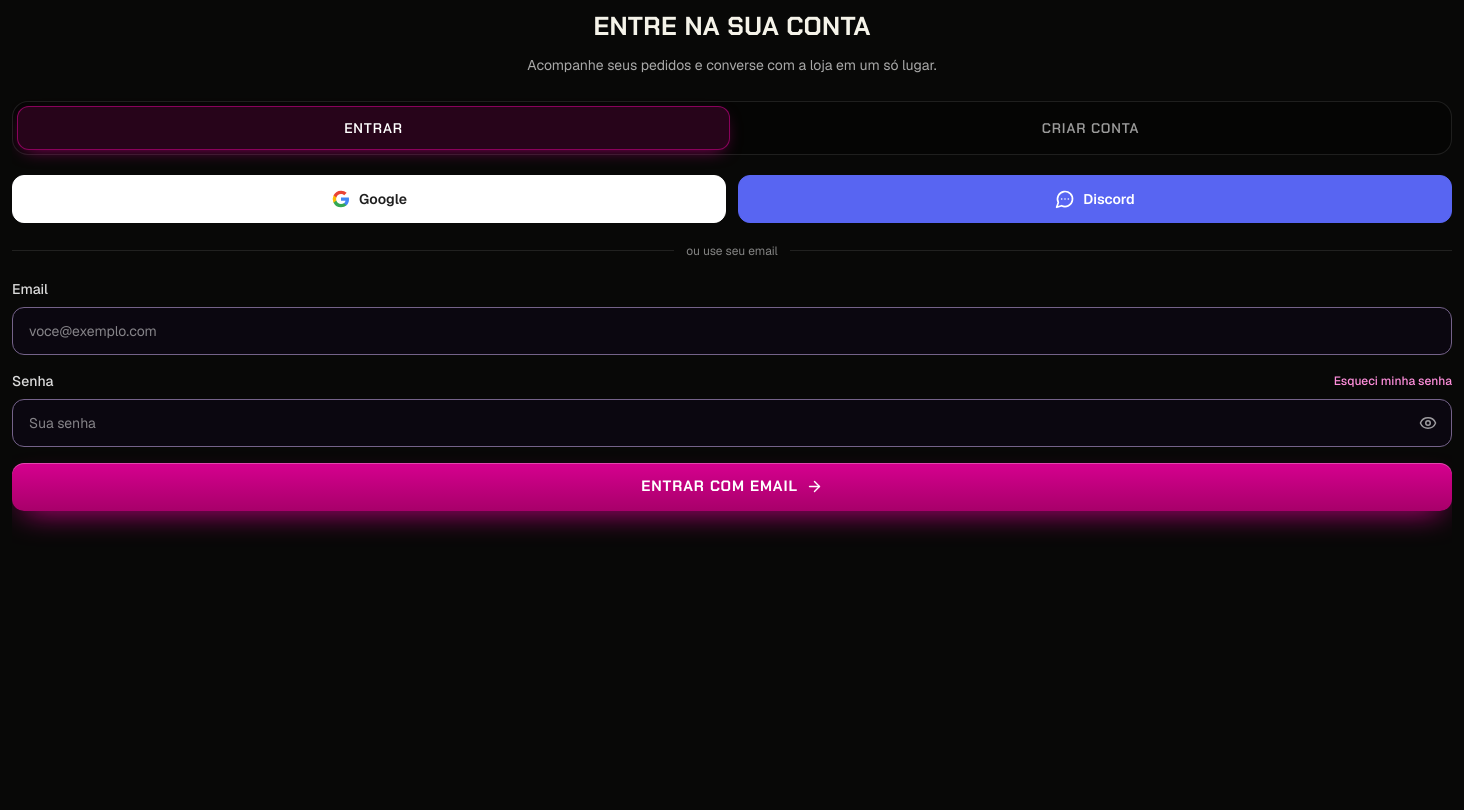
Test case: acesso do cliente por Google, Discord e email › mostra erros associados ao campo, preserva os valores e limpa feedback ao trocar de modo
In the field labelled "Email": (732, 331) 12,307 -> 1452,355, type "ana@example.com"
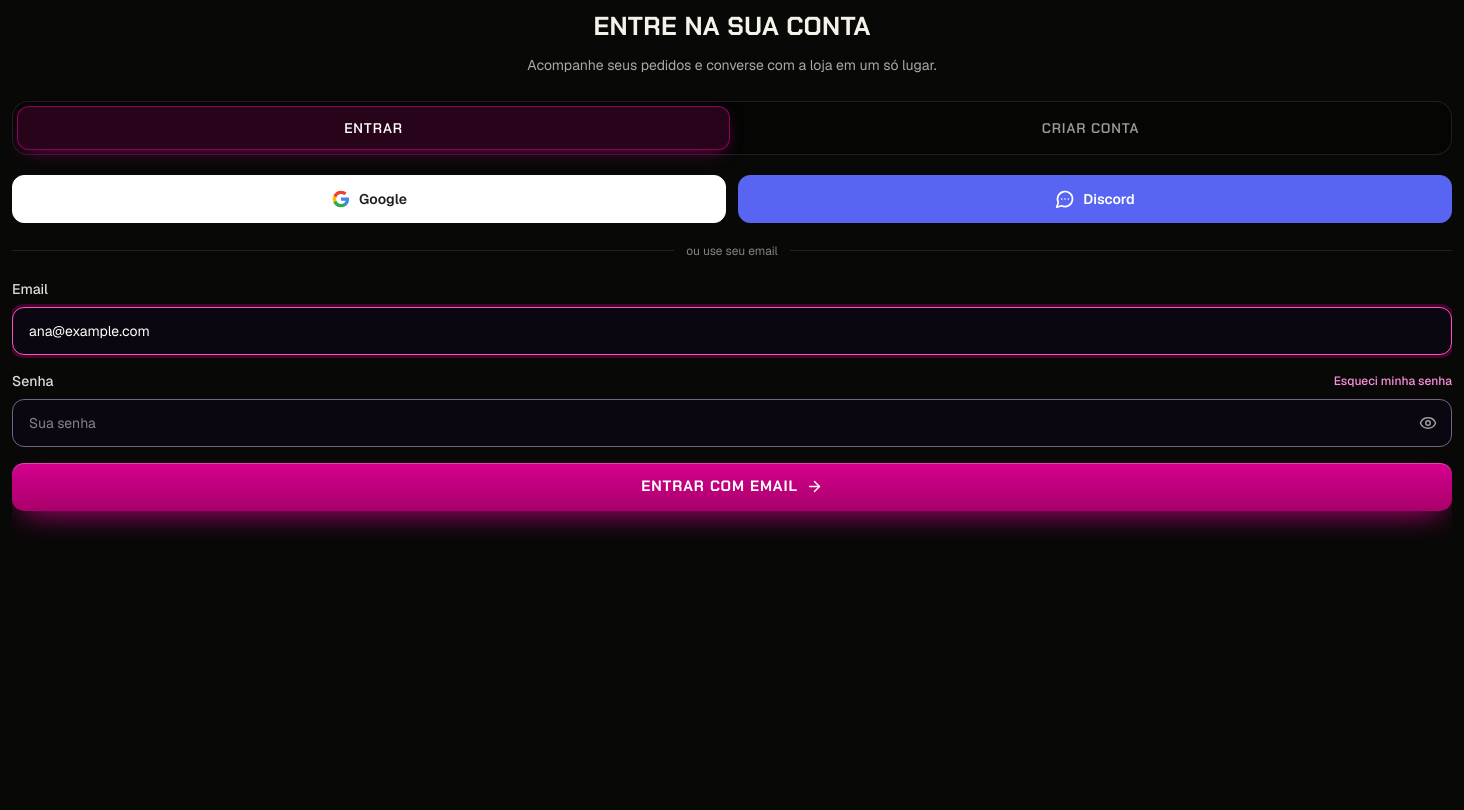
In the password field labelled "Senha": (732, 423) 12,399 -> 1452,447, type "SenhaAtual"
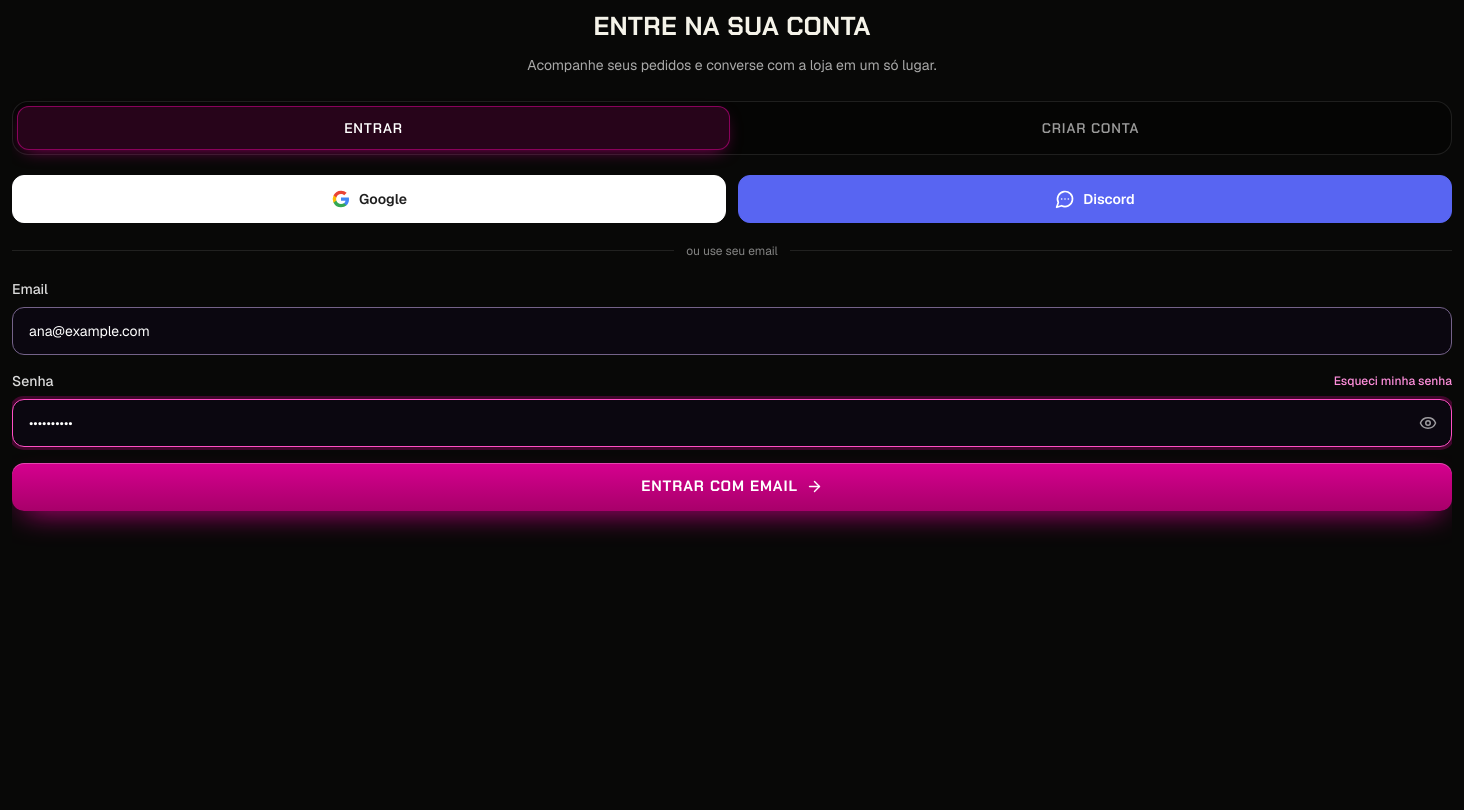
Click the button "Entrar com email": (732, 487) 12,463 -> 1452,511
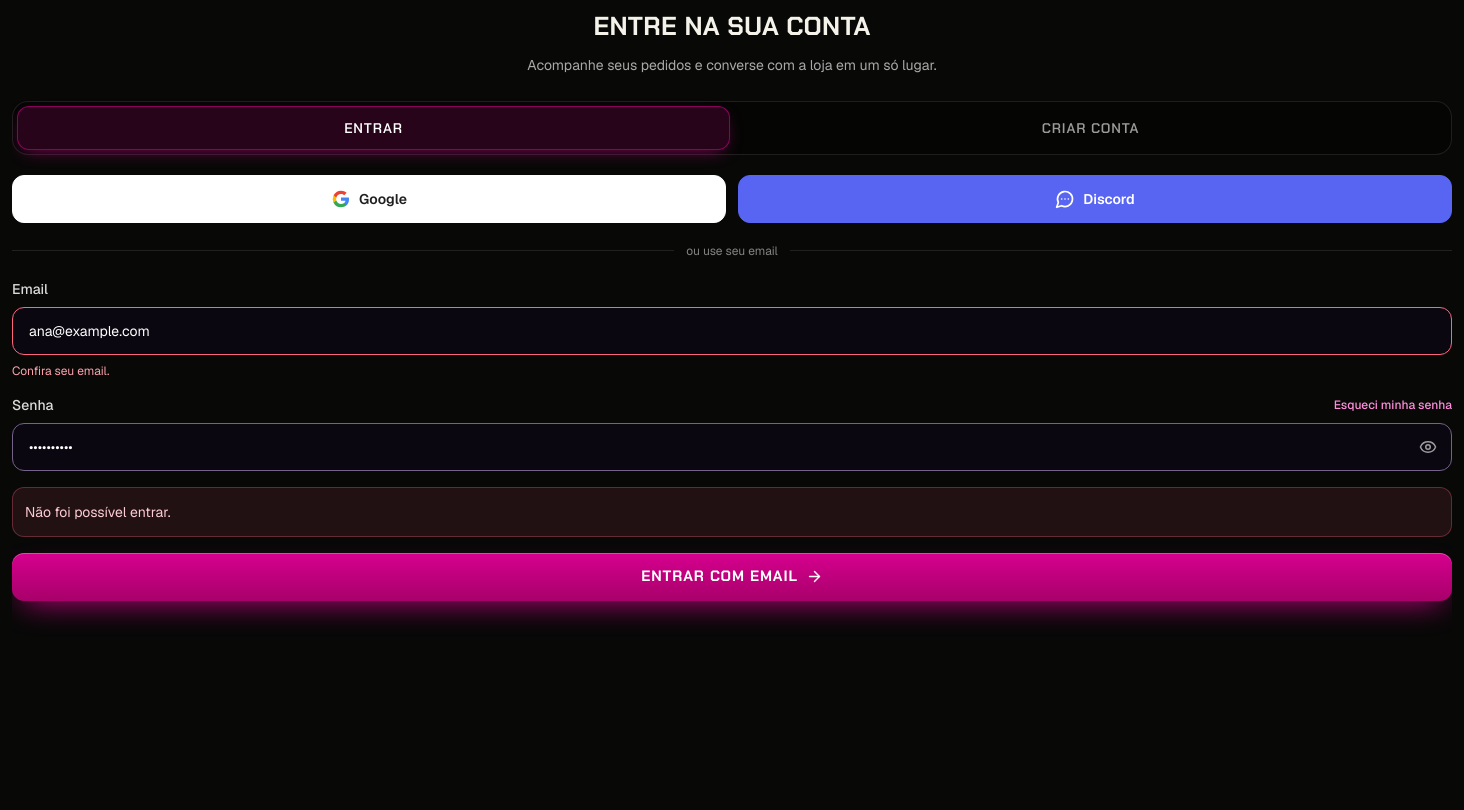
Check: the message reads "Não foi possível entrar.", box 25,503 -> 170,521
Click the tab "Criar conta": (1090, 128) 734,106 -> 1447,150
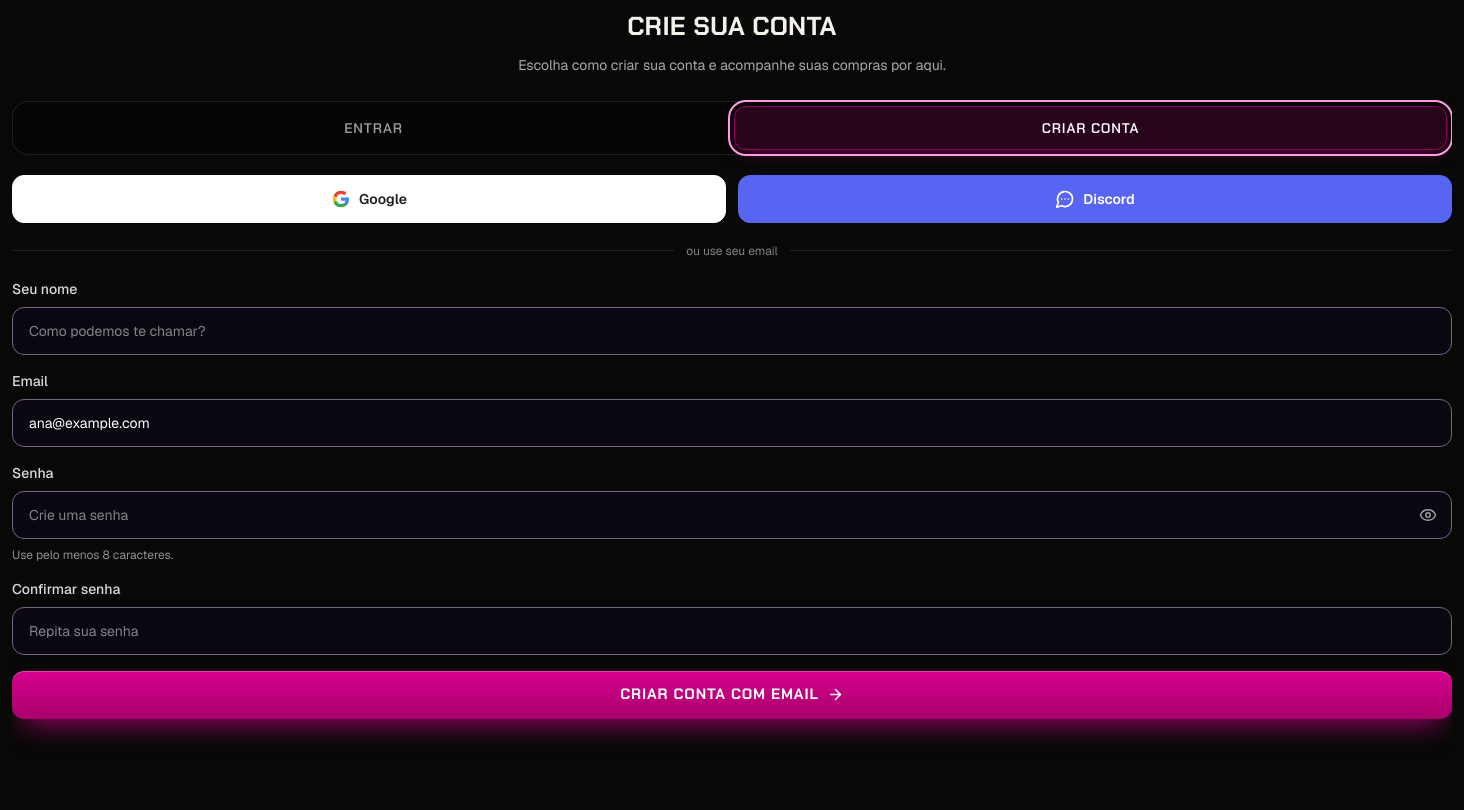
Check: the field labelled "Email" holds "ana@example.com", box 12,399 -> 1452,447
Check: the message "Não foi possível entrar." is gone
Check: the password field labelled "Senha" is empty, box 12,491 -> 1452,539
